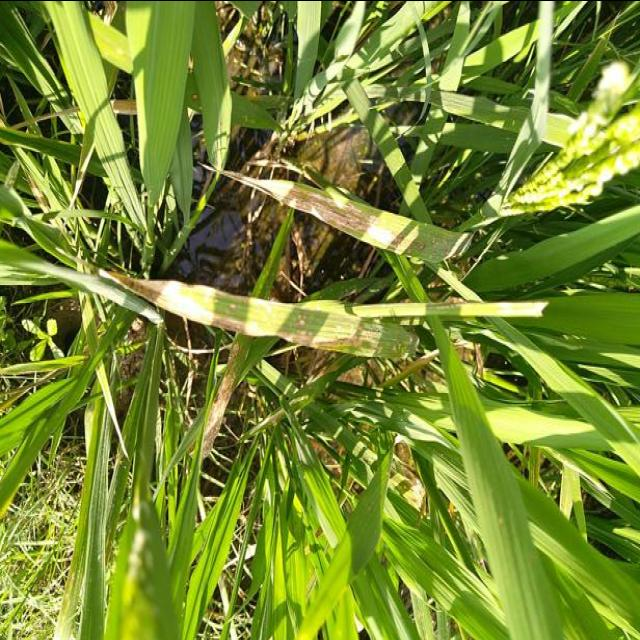Leaf Streak: (217, 170, 472, 265), (99, 271, 381, 355), (202, 342, 236, 456)
